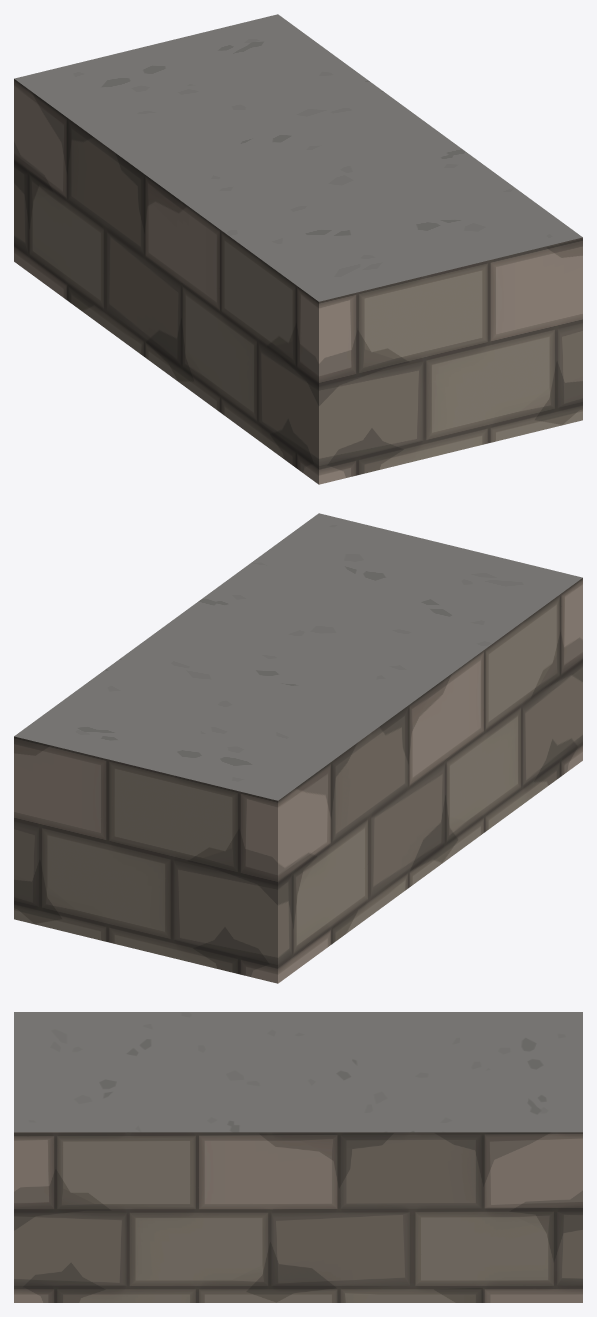
File: SM_Bld_Tunnel_Curved_Roof_02.fbx
3 renders of one model, top to bottom at view 1: azimuth 30°, elevation 25°; view 2: azimuth 150°, elevation 25°; view 3: azimuth 270°, elevation 25°, orthographic. The views are drawn at different scales.
Parts seen in each view (by area): view 1: SM_Bld_Tunnel_Curved_Roof_02; view 2: SM_Bld_Tunnel_Curved_Roof_02; view 3: SM_Bld_Tunnel_Curved_Roof_02.
Boxes of the visible parts, x1,y1,x2,y2 form: SM_Bld_Tunnel_Curved_Roof_02: [14, 14, 582, 484]; SM_Bld_Tunnel_Curved_Roof_02: [14, 513, 582, 983]; SM_Bld_Tunnel_Curved_Roof_02: [14, 1012, 582, 1302].
Bounding box in the file's own units: 125 × 82.74 × 250.
